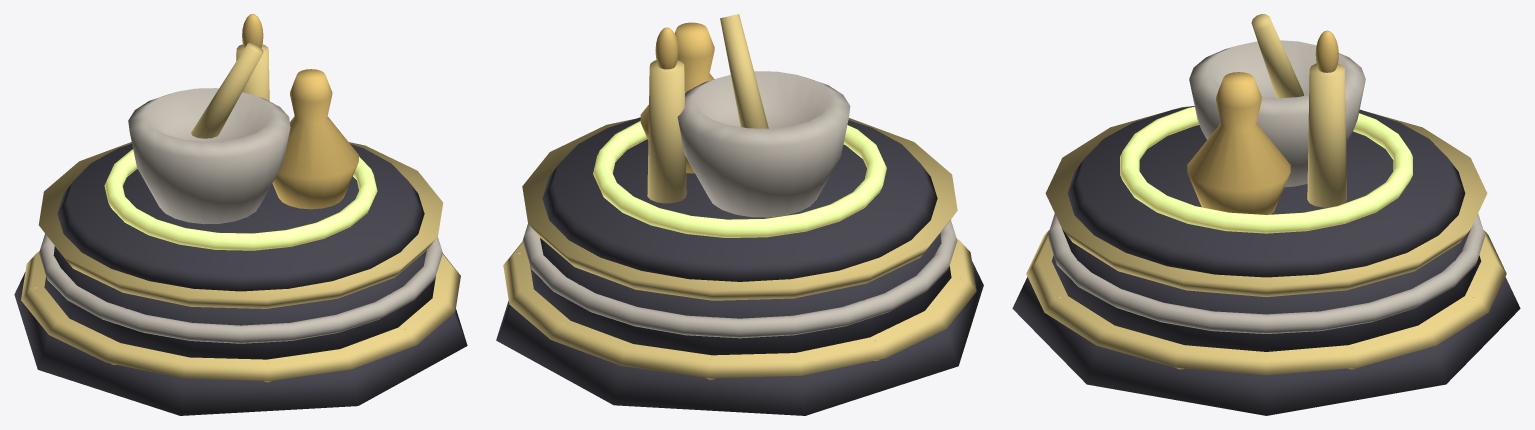
The picture shows the model from 3 angles, left to right: view 1: azimuth 30°, elevation 25°; view 2: azimuth 150°, elevation 25°; view 3: azimuth 270°, elevation 25°; orthographic projection. The views are drawn at different scales.
Visible parts, largest first — view 1: VC-002_Friar_Lawrence; view 2: VC-002_Friar_Lawrence; view 3: VC-002_Friar_Lawrence.
Boxes of the visible parts, left/top/right/bottom form: VC-002_Friar_Lawrence: left=14, top=14, right=467, bottom=415; VC-002_Friar_Lawrence: left=496, top=14, right=983, bottom=415; VC-002_Friar_Lawrence: left=1012, top=14, right=1520, bottom=415.
Bounding box in the file's own units: 0.92 × 0.5962 × 0.92.
